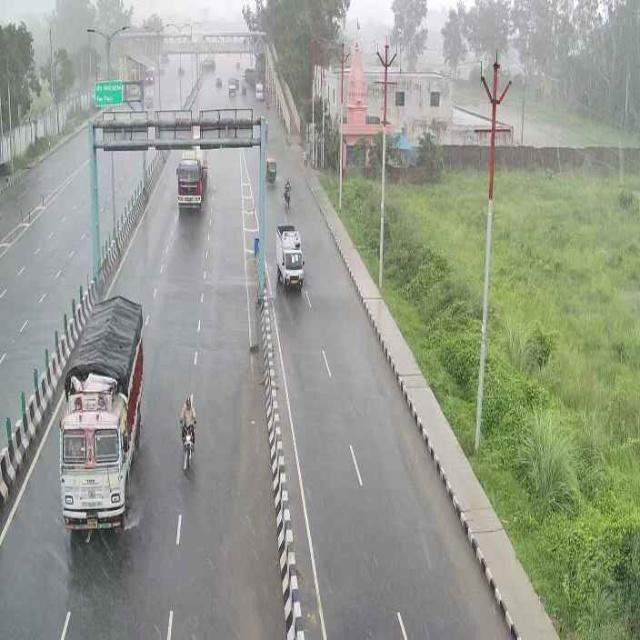car: (171, 150, 211, 219), (273, 218, 306, 295)
